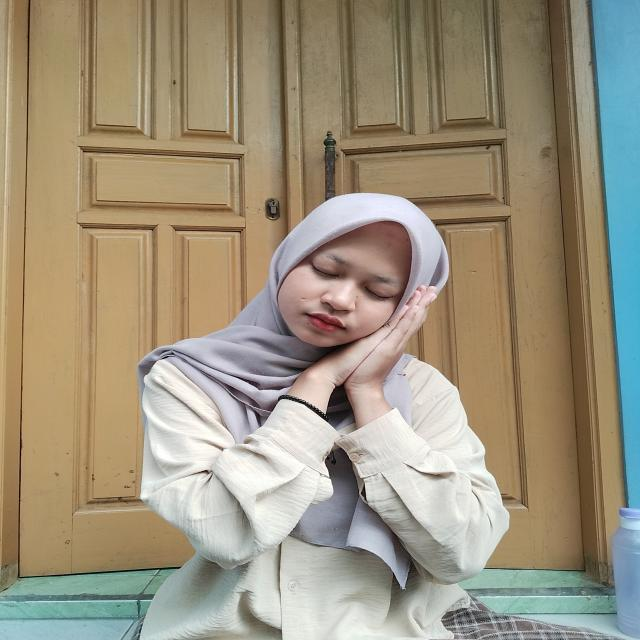tidur: (246, 281, 447, 439)
